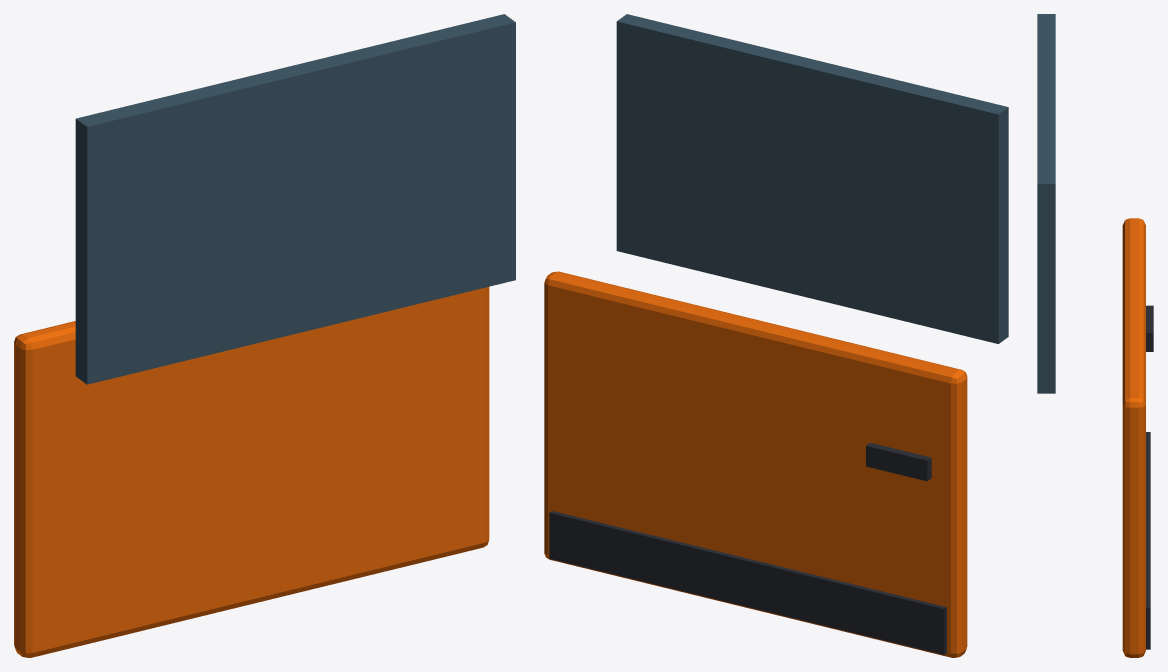
Rendered from door_l.obj.
3 views of the same model, side by side, from view 1: azimuth 30°, elevation 25°; view 2: azimuth 150°, elevation 25°; view 3: azimuth 270°, elevation 25° (orthographic). The views are drawn at different scales.
Parts seen in each view (by area): view 1: Cube; view 2: Cube; view 3: Cube.
Part boxes in pixels (bbox=[...]): Cube: bbox=[14, 14, 515, 657]; Cube: bbox=[544, 14, 1008, 657]; Cube: bbox=[1037, 14, 1153, 657].
Size of the model in its own units: 0.95 by 1.11 by 0.252.
